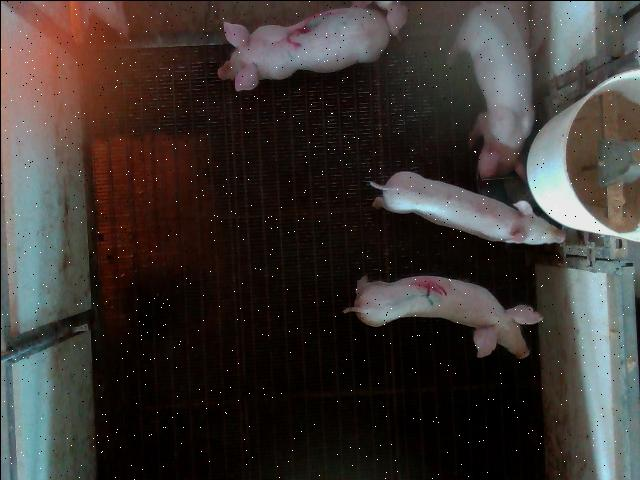pig-3: (218, 7, 390, 90)
pig-4: (343, 275, 541, 358)
